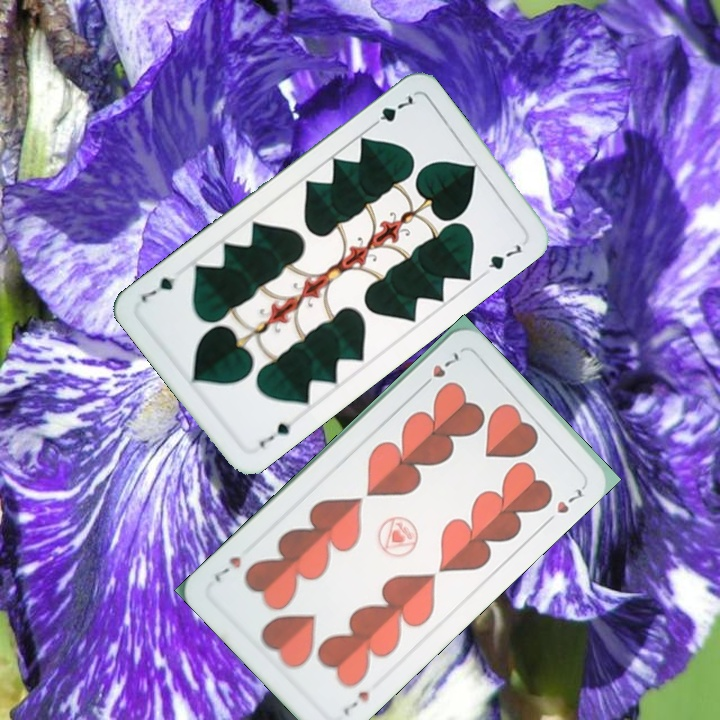G7: (365, 91, 416, 131), (255, 419, 294, 450)
H7: (416, 348, 462, 392), (339, 686, 373, 718)
